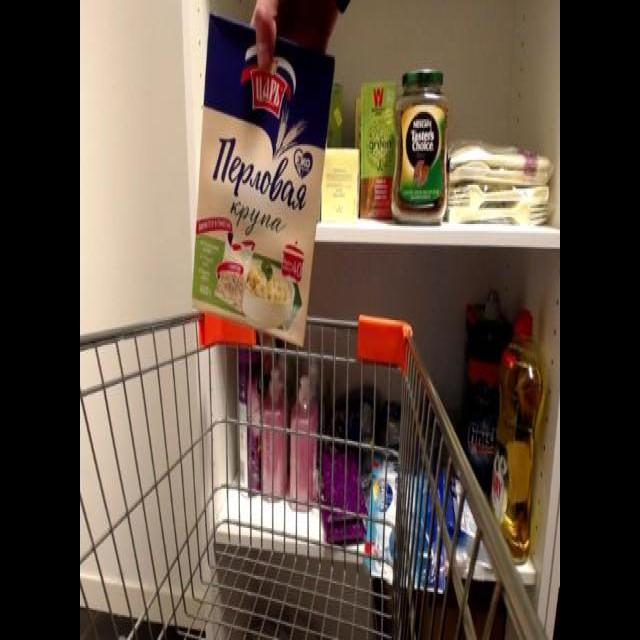Groats: (187, 7, 338, 356)
